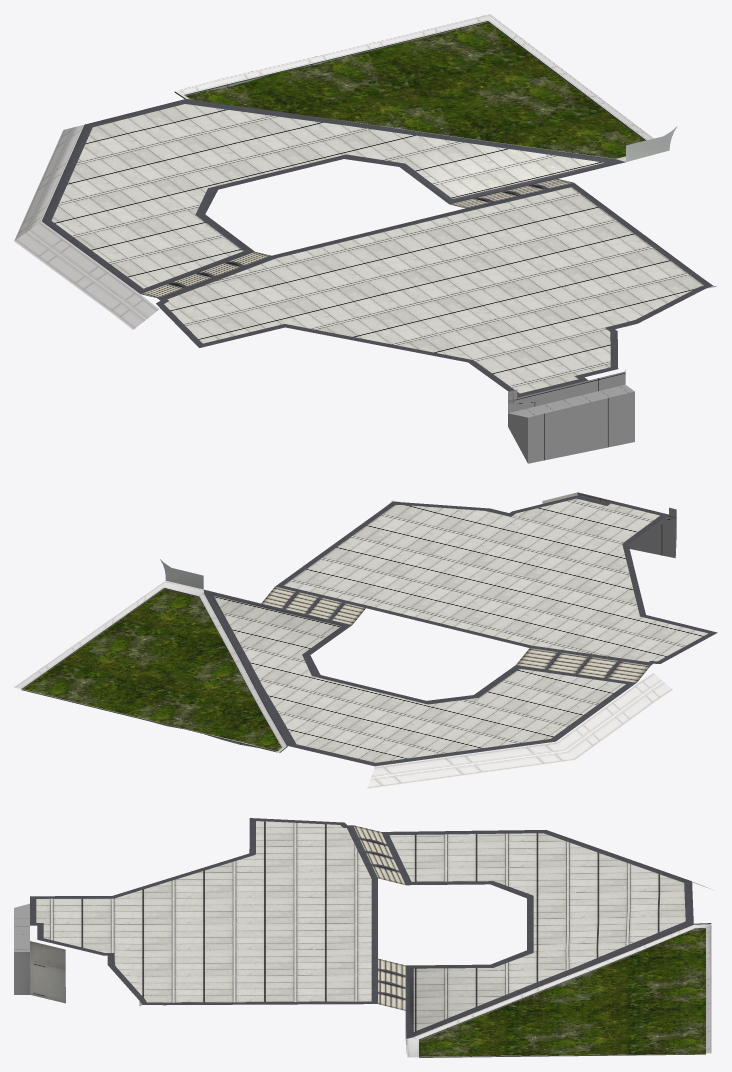
The model's file is STA20_bridge02.FBX.
3 views of the same model, one above another, from view 1: azimuth 30°, elevation 25°; view 2: azimuth 150°, elevation 25°; view 3: azimuth 270°, elevation 25° (orthographic). The views are drawn at different scales.
Parts seen in each view (by area): view 1: STA20_bridge02; view 2: STA20_bridge02; view 3: STA20_bridge02.
Boxes of the visible parts, bbox=[...] form: STA20_bridge02: bbox=[14, 14, 717, 463]; STA20_bridge02: bbox=[14, 492, 717, 789]; STA20_bridge02: bbox=[14, 818, 714, 1057].
Bounding box in the file's own units: 46.52 × 6.16 × 57.83.
